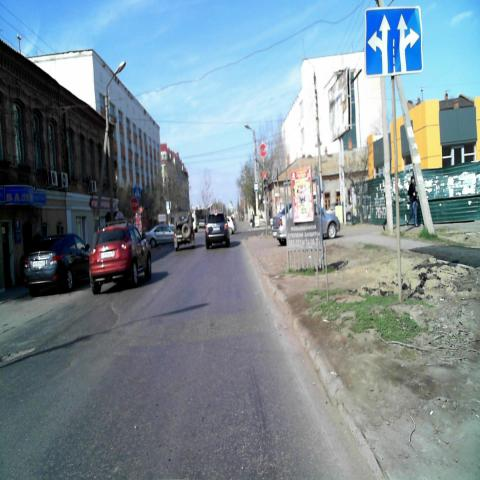2_5: (130, 197, 138, 211)
5_15_2_2: (366, 5, 424, 77)
